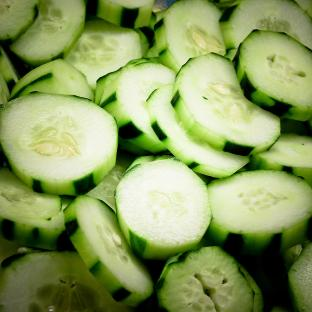Cucumber: (0, 92, 117, 194), (171, 53, 279, 155), (64, 196, 153, 306), (116, 158, 211, 260), (147, 85, 249, 177), (205, 170, 311, 254), (0, 252, 133, 311), (100, 61, 175, 153), (237, 30, 311, 121), (156, 247, 261, 311), (66, 18, 142, 93), (0, 167, 65, 249), (155, 0, 225, 72), (10, 0, 85, 67), (220, 0, 311, 50), (10, 59, 94, 100), (250, 135, 311, 185), (87, 150, 135, 211), (95, 58, 150, 104), (0, 0, 40, 44), (288, 243, 312, 312), (238, 263, 264, 311), (0, 45, 18, 90), (119, 137, 150, 155), (135, 27, 153, 57), (282, 244, 302, 270), (125, 156, 156, 171), (0, 72, 9, 104)
